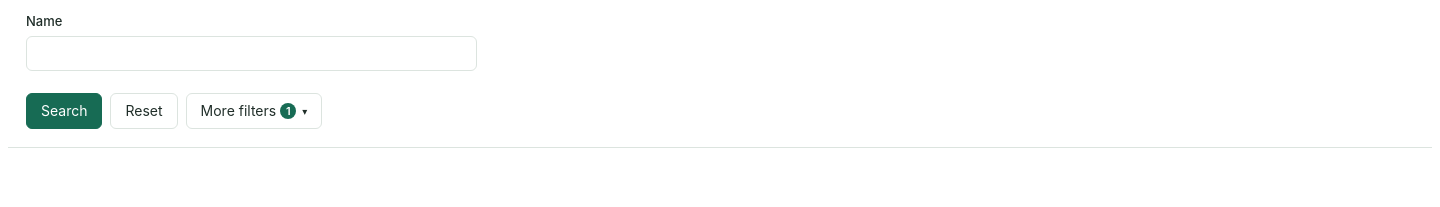
Test case: closed popover more-fields still validate on main search with an actionable error
The image size is (1440, 207).
Click the button with test id "rac-search" at (64, 111), box [26,93,102,129]
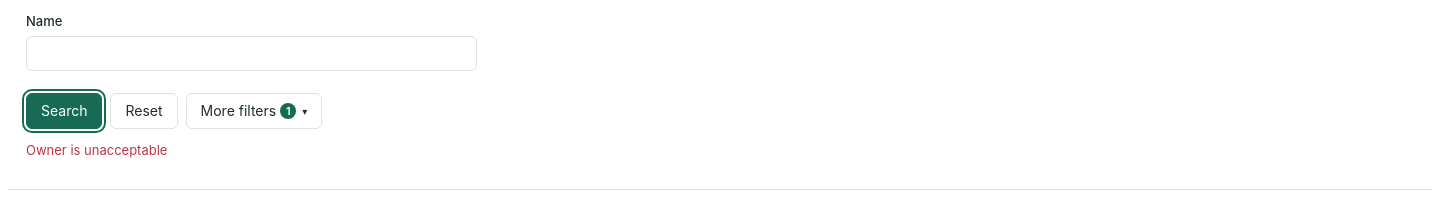
Check: the message reads "Owner is unacceptable", box [26,142,167,158]
